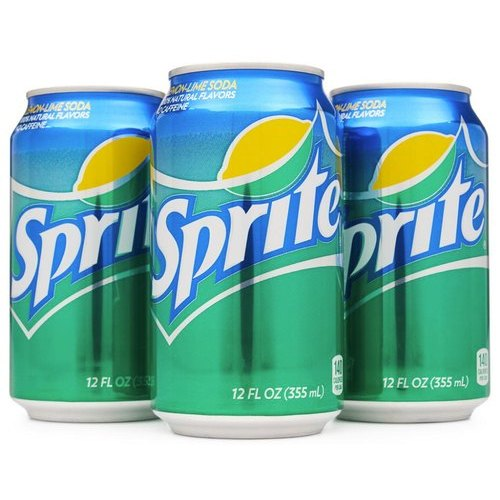sprite_can: (153, 62, 342, 434), (338, 82, 492, 424), (8, 82, 151, 422)
